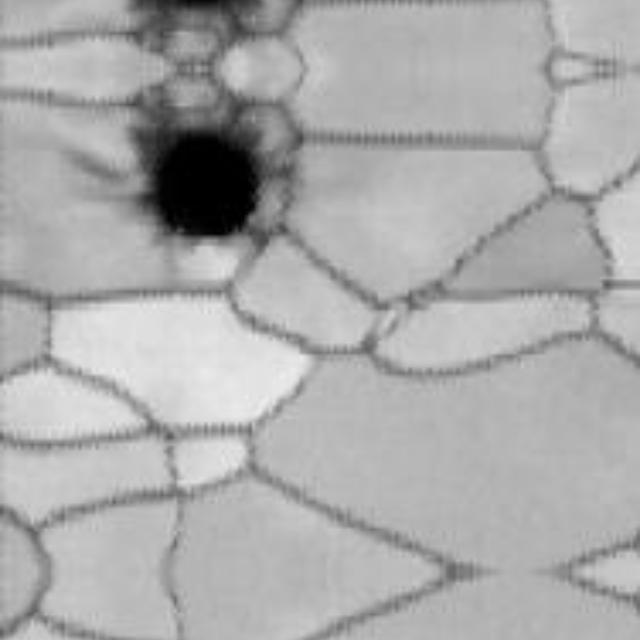good_void: (131, 84, 297, 251), (138, 0, 291, 51)
